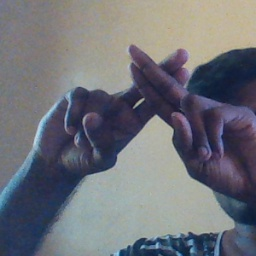F: (88, 35, 219, 154)
